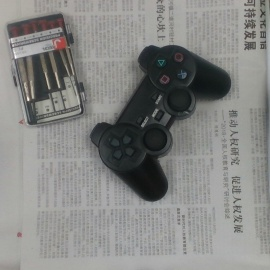remote: (91, 44, 230, 199)
